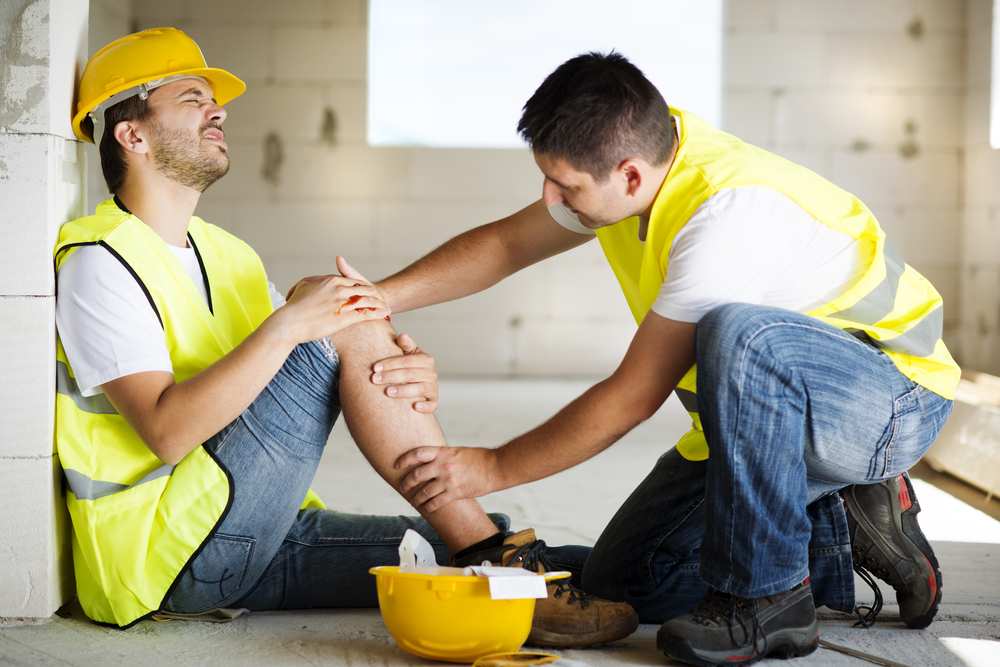epi: (45, 21, 526, 628)
noepi: (487, 48, 950, 667)
